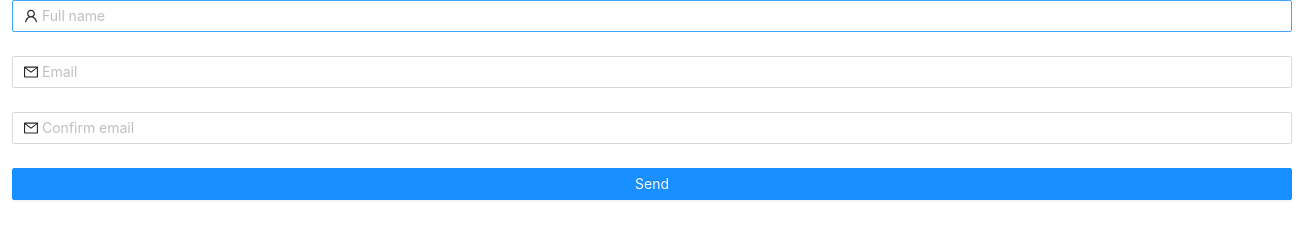
Test: existed user
Type "test" into the field with placeholder "Full name".
click(661, 16); type("test")  # box x1=42 y1=5 x2=1280 y2=27
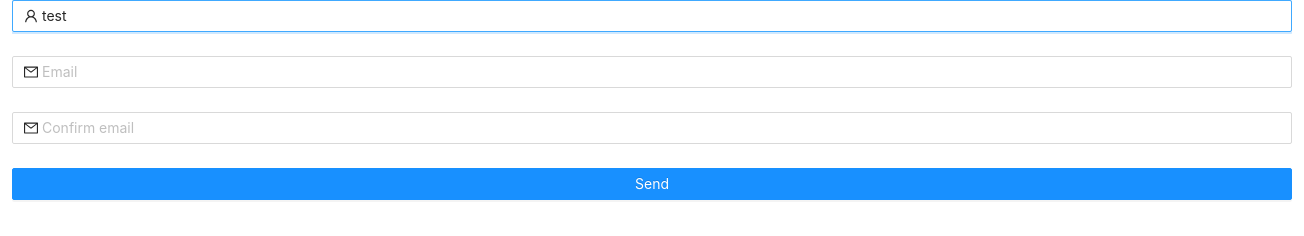
Type "usedemail@airwallex.com" into the field with placeholder "Email".
click(661, 72); type("usedemail@airwallex.com")  # box x1=42 y1=61 x2=1280 y2=83
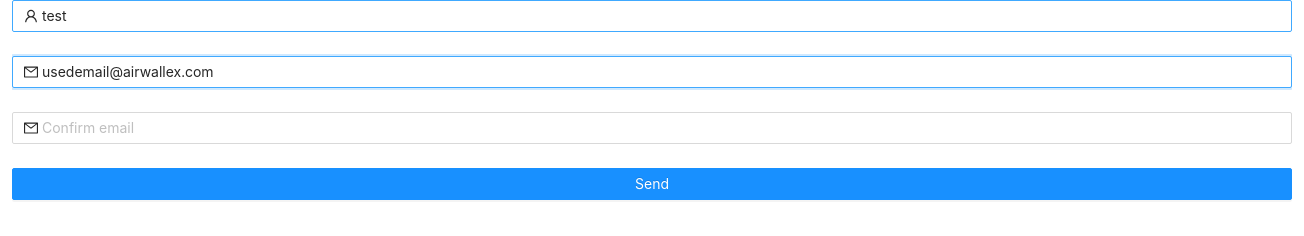
Type "usedemail@airwallex.com" into the field with placeholder "Confirm email".
click(661, 128); type("usedemail@airwallex.com")  # box x1=42 y1=117 x2=1280 y2=139
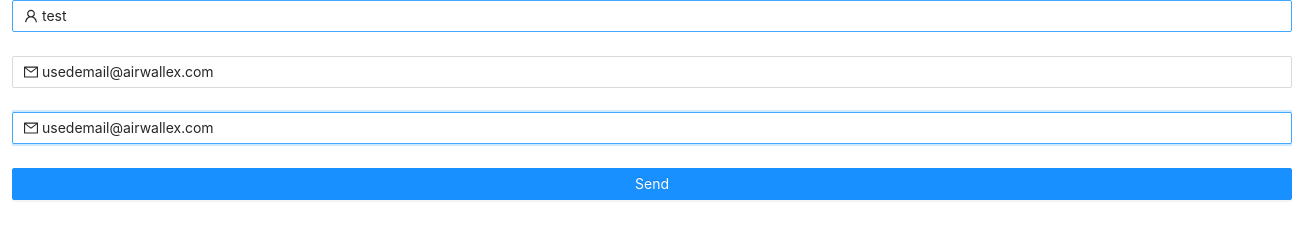
Click the button "Send".
click(652, 184)  # box x1=12 y1=168 x2=1292 y2=200
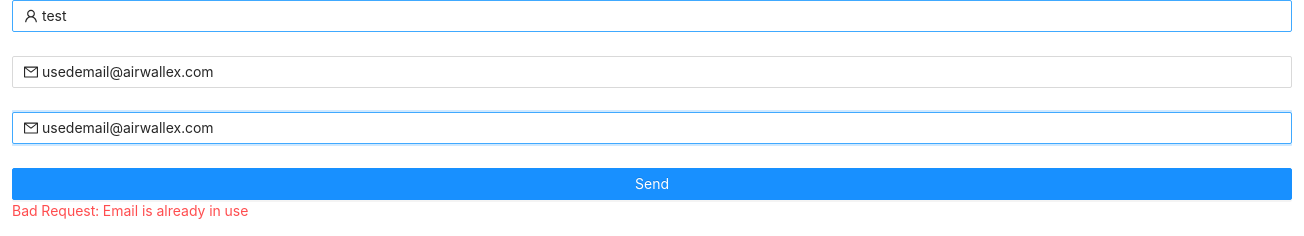
Result: the text "Bad Request: Email is already in use" is shown at x1=12 y1=202 x2=248 y2=219
